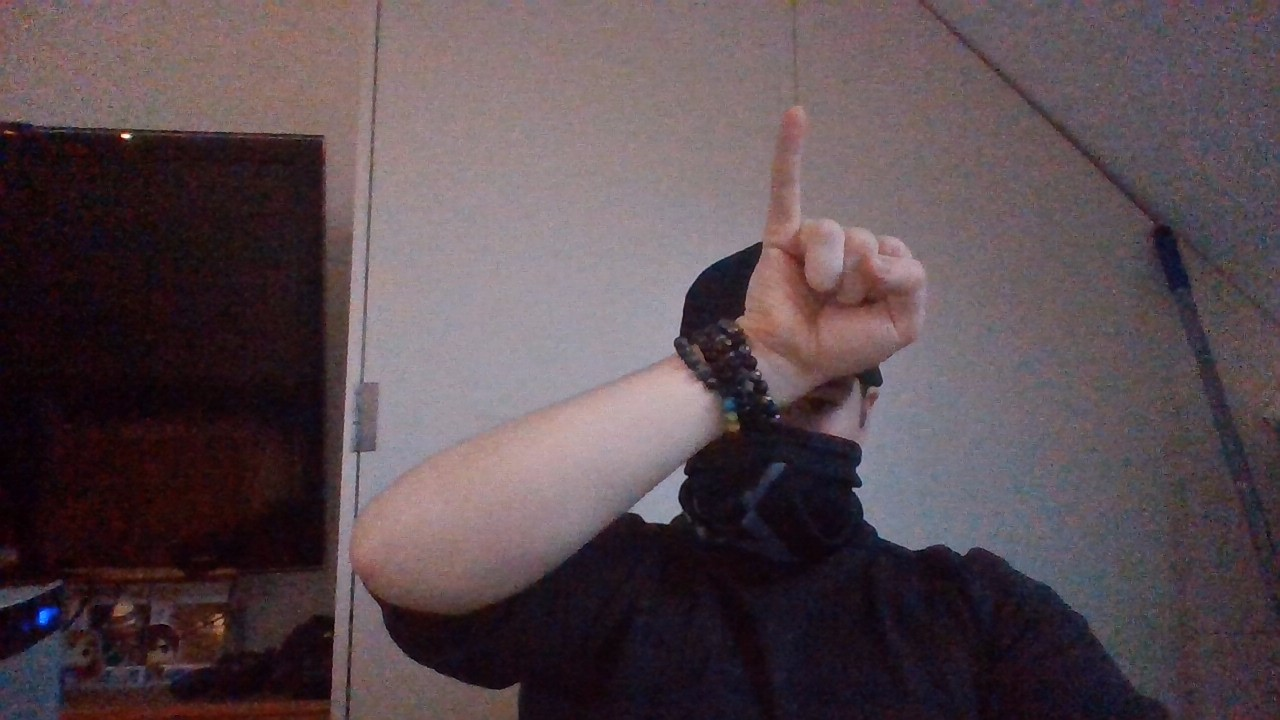I" Sign language: (733, 92, 940, 392)
